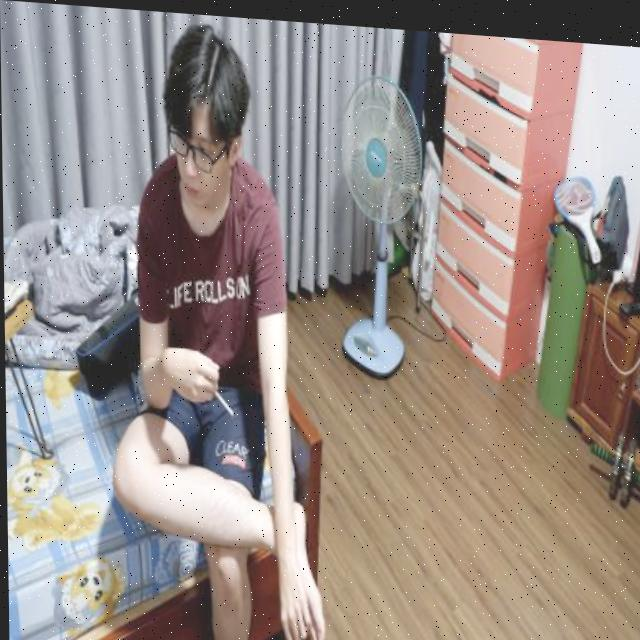cigarette: (211, 386, 234, 416)
